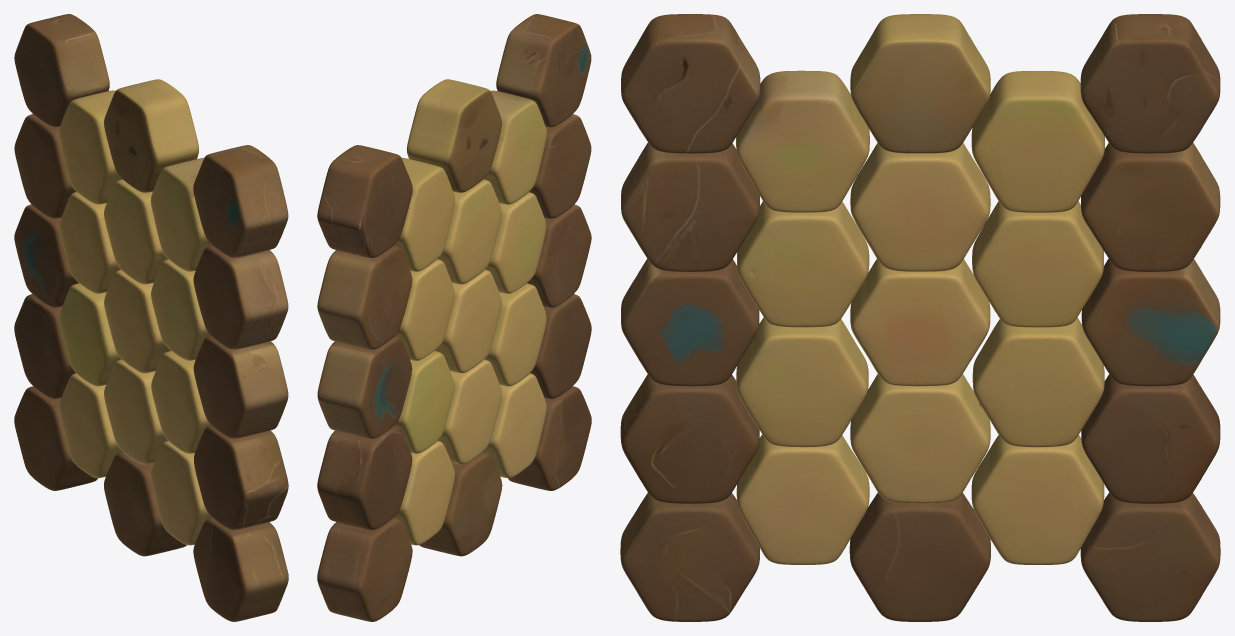
Rendered from board_hex_cell.glb.
3 views of the same model, side by side, from view 1: azimuth 30°, elevation 25°; view 2: azimuth 150°, elevation 25°; view 3: azimuth 270°, elevation 25° (orthographic). The views are drawn at different scales.
Visible parts, largest first — view 1: tripo_node_24cd2f13-c870-417f-ac3b-6d1e847568e2; view 2: tripo_node_24cd2f13-c870-417f-ac3b-6d1e847568e2; view 3: tripo_node_24cd2f13-c870-417f-ac3b-6d1e847568e2.
Part boxes in pixels (x1,y1,x2,y2): tripo_node_24cd2f13-c870-417f-ac3b-6d1e847568e2: (14, 14, 288, 621); tripo_node_24cd2f13-c870-417f-ac3b-6d1e847568e2: (317, 14, 591, 621); tripo_node_24cd2f13-c870-417f-ac3b-6d1e847568e2: (620, 14, 1220, 621).
Size of the model in its own units: 0.1111 by 1 by 0.9324.
Materials: 1 (1 with a texture image).
